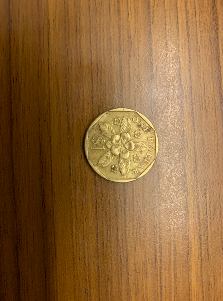Nonfood: (81, 93, 160, 189)
